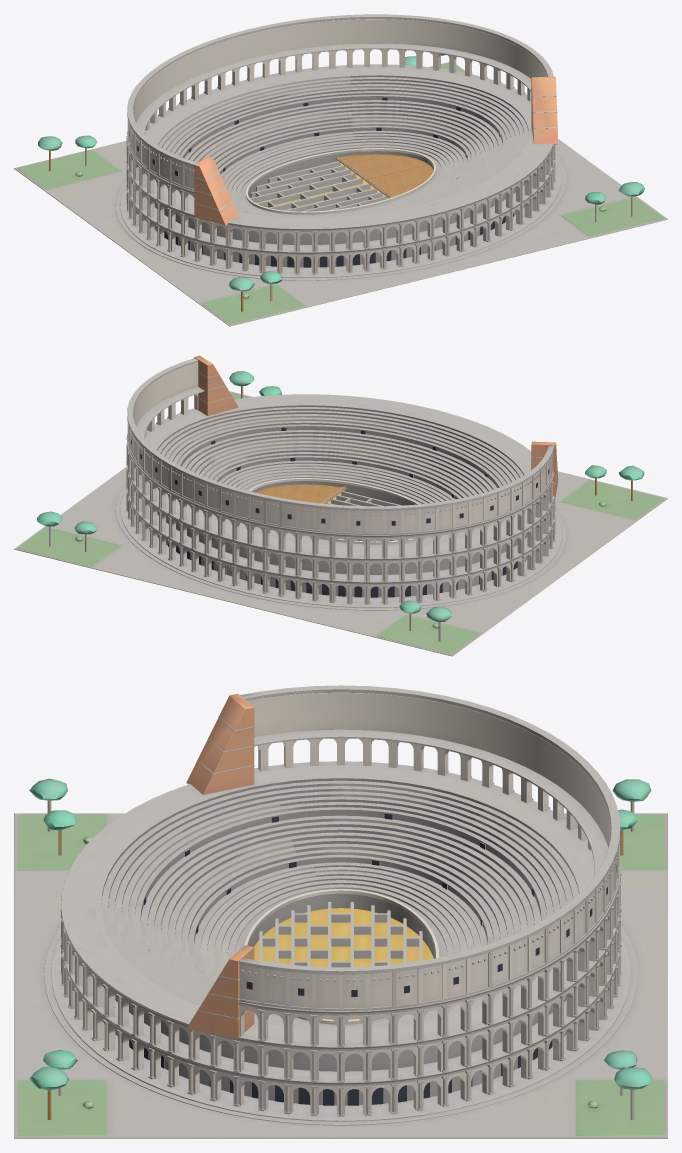
Rendered from colosseum.glb.
3 views of the same model, one above another, from view 1: azimuth 30°, elevation 25°; view 2: azimuth 150°, elevation 25°; view 3: azimuth 270°, elevation 25° (orthographic). The views are drawn at different scales.
Visible parts, largest first — view 1: colosseum_body; view 2: colosseum_body; view 3: colosseum_body.
Part boxes in pixels (<box>): colosseum_body: <box>14,14,667,326</box>; colosseum_body: <box>14,355,667,656</box>; colosseum_body: <box>14,685,667,1138</box>.
Bounding box in the file's own units: 216 × 46.3 × 184.
1 material, 1 textured.
